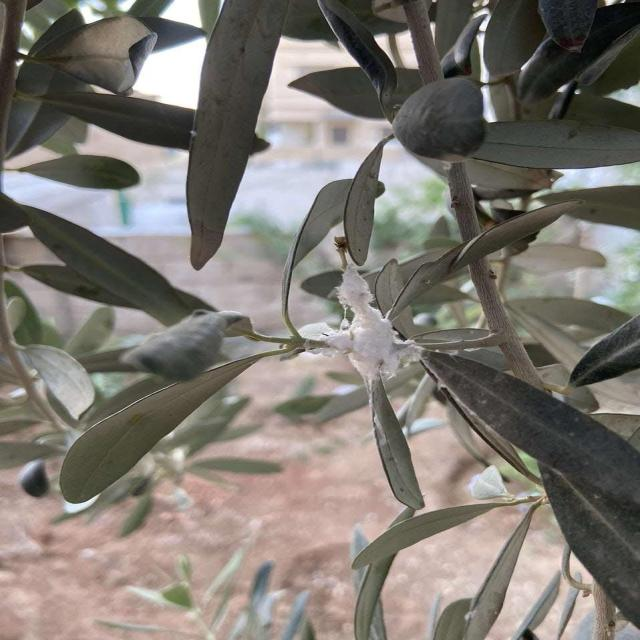Psyllid: (299, 262, 418, 400)
